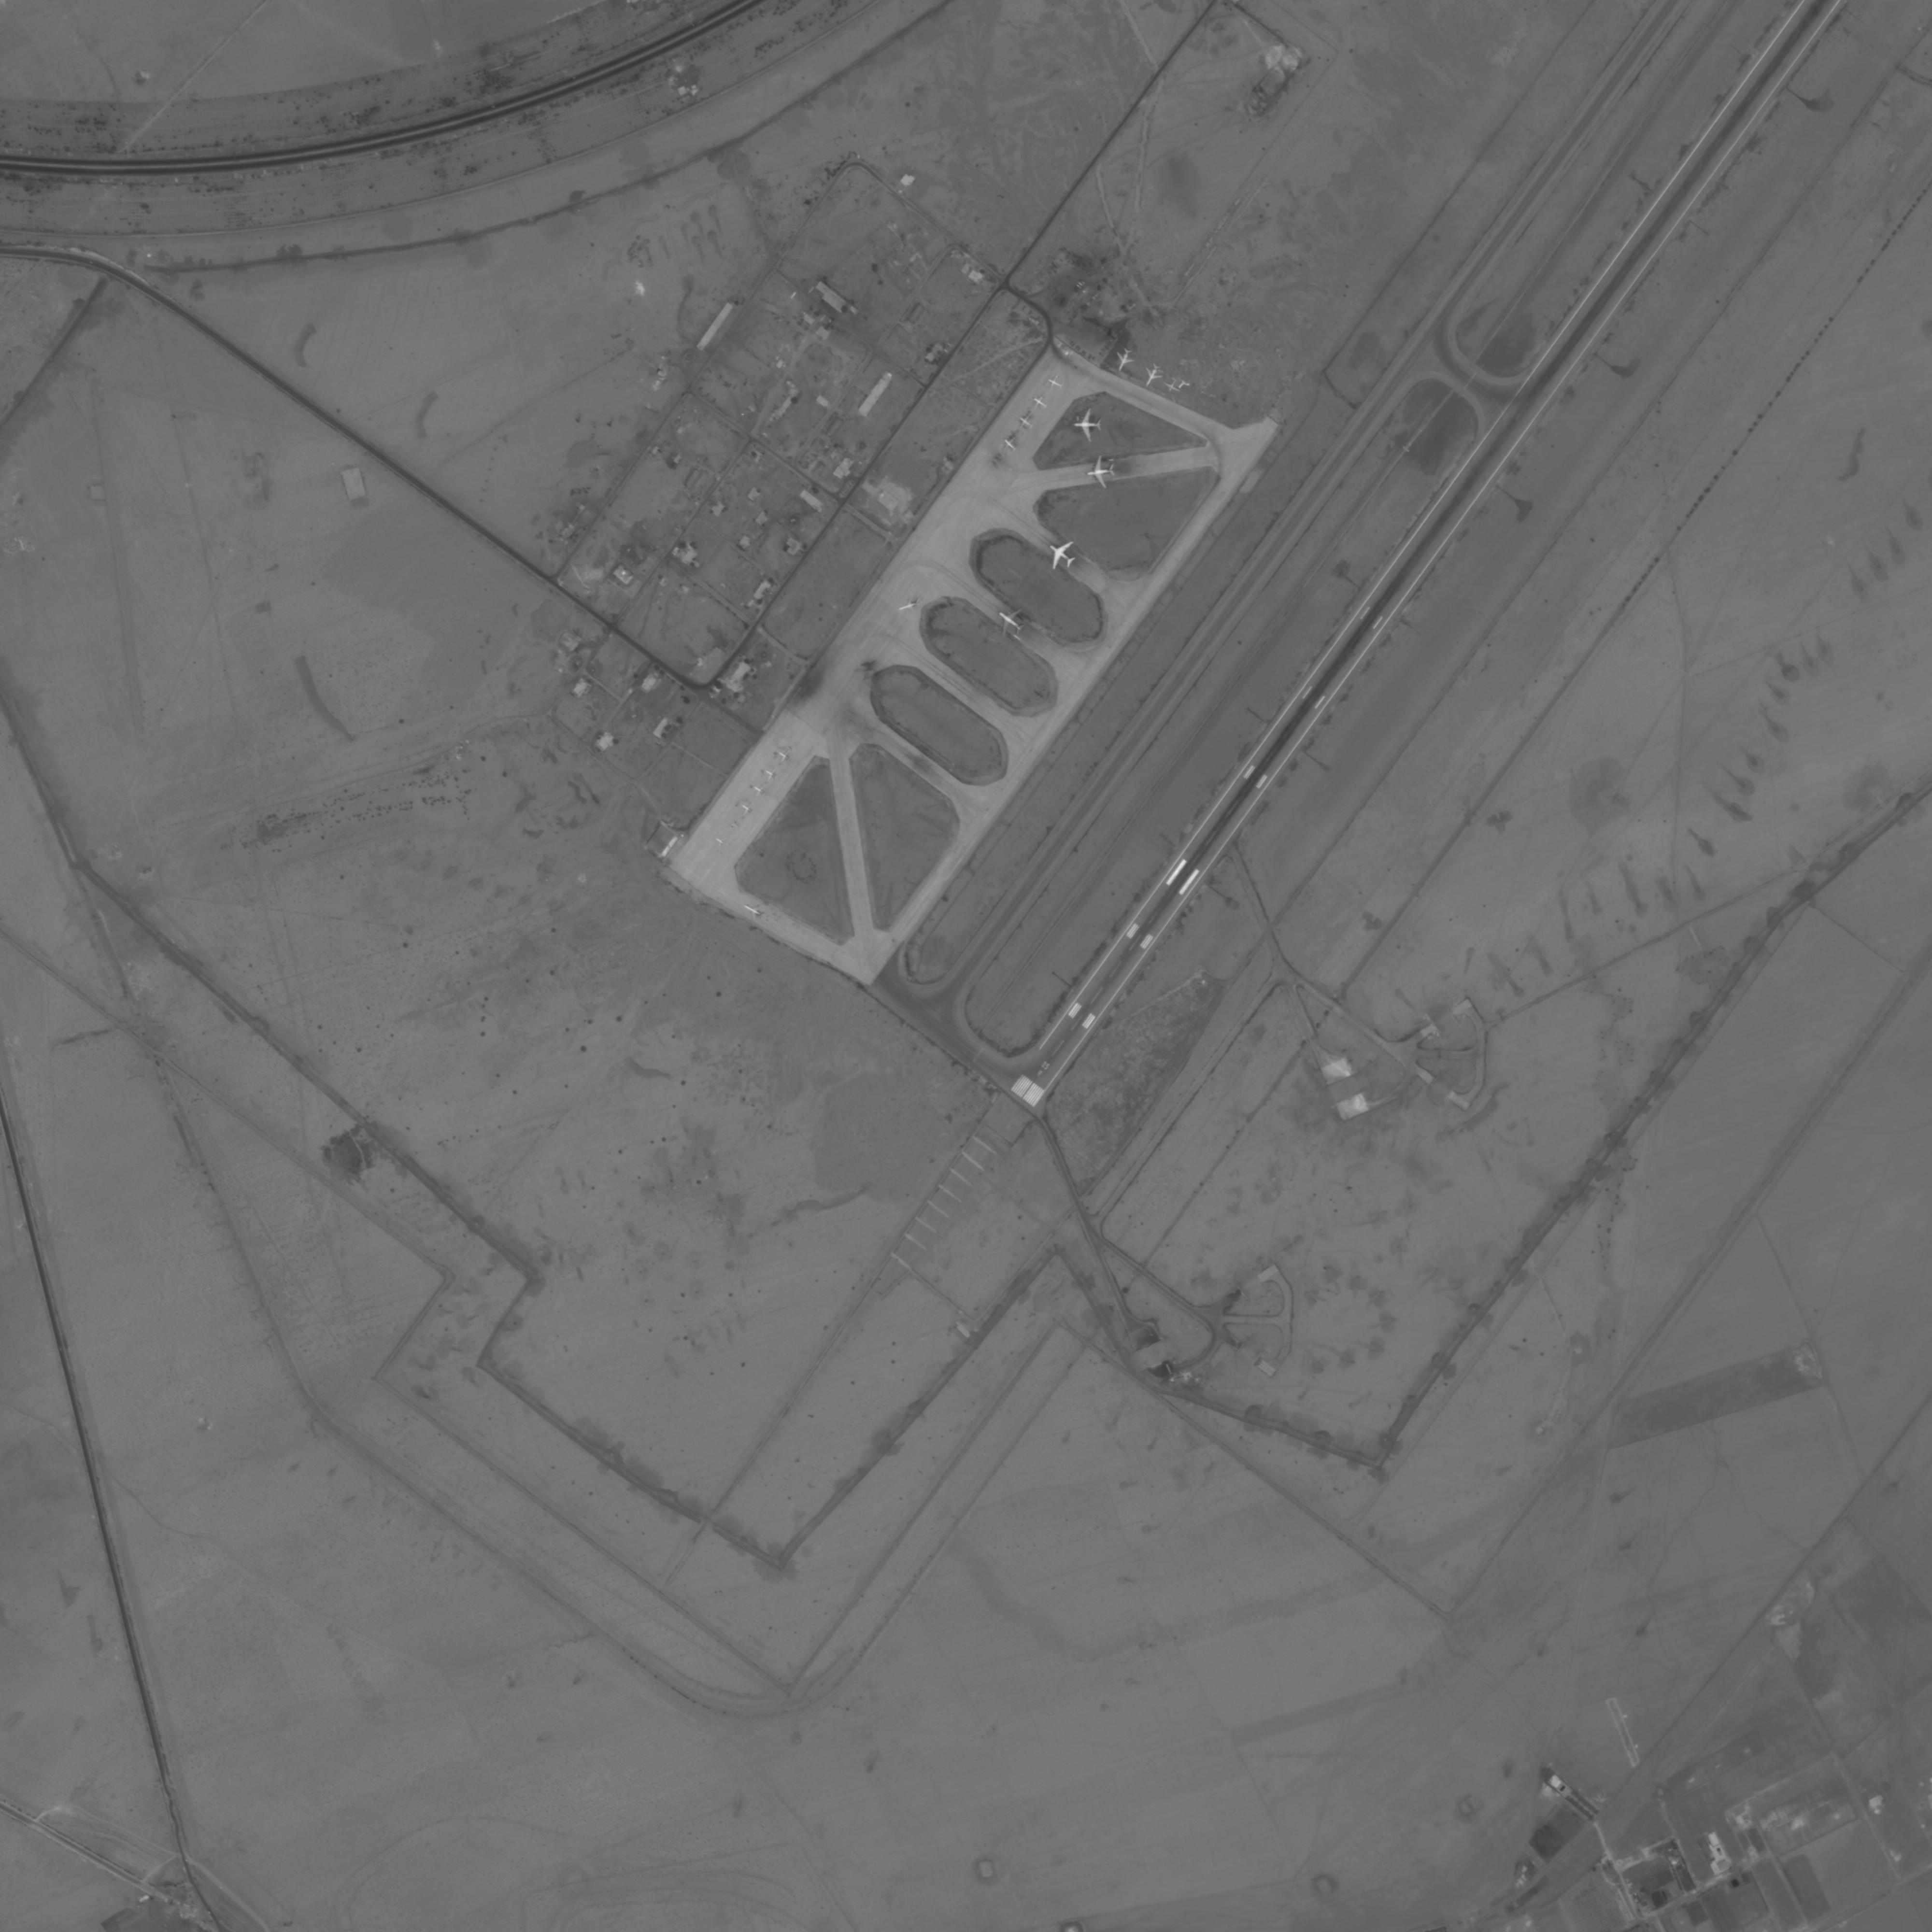plane: (1040, 533, 1085, 580), (989, 598, 1033, 644), (1085, 453, 1116, 488), (1074, 407, 1104, 444), (1138, 361, 1168, 393), (1109, 347, 1139, 377), (1010, 409, 1039, 433), (740, 899, 768, 924), (998, 432, 1023, 458), (897, 593, 924, 617), (1159, 375, 1184, 398), (1028, 391, 1051, 414), (1044, 372, 1065, 393), (775, 747, 793, 766), (750, 782, 768, 800), (713, 833, 729, 853), (763, 766, 778, 782), (740, 801, 754, 817)
